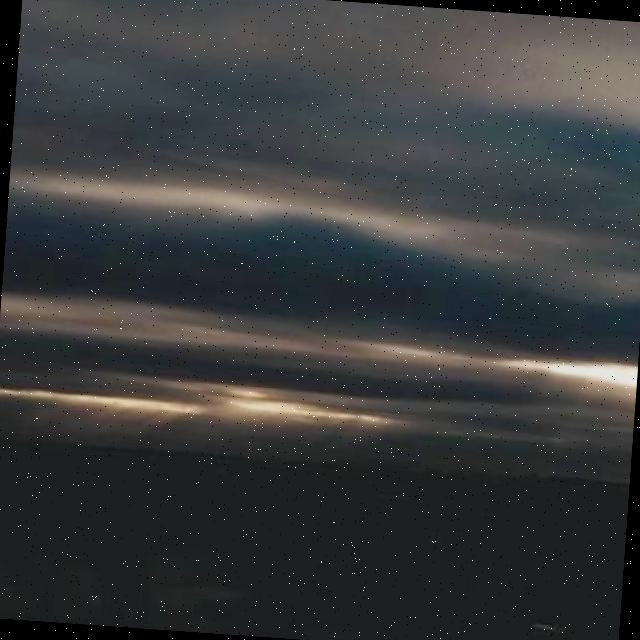Sc: (1, 1, 640, 591)
